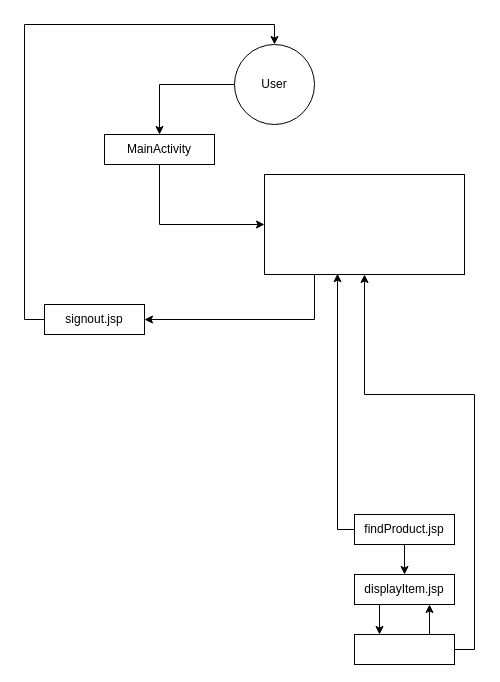
The diagram is 500 pixels wide and 682 high, and some of its shapes have lost their labels. The centre of each missing label's shape, as x and y in pixels:
"AuthenticatedActivity" belongs at pixel 364 224.
"bidProduct.jsp" belongs at pixel 404 649.
